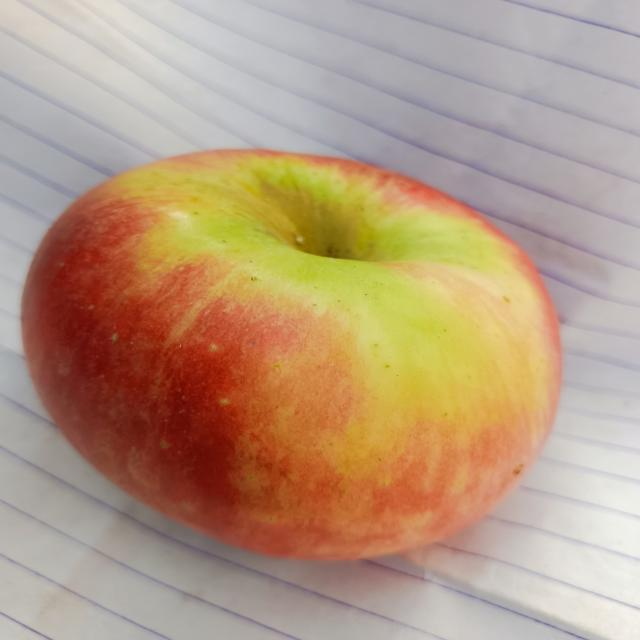Fresh Apple: (11, 144, 564, 556)
